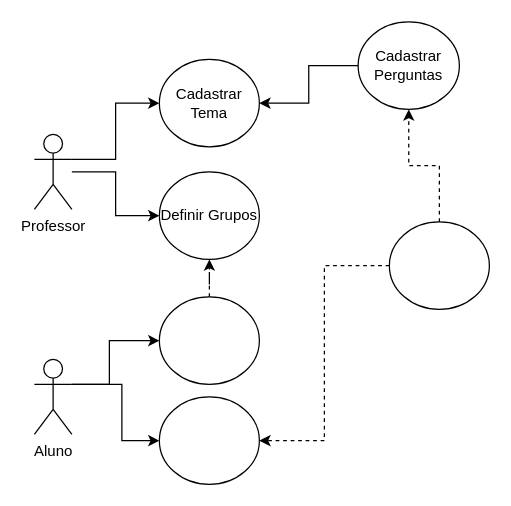
This 511x506 diagram has some shape labels left out. Each missing label, with the centre of its shape:
Cadastrar Dados Pessoais: pixel 208 340
Cadastrar Roteiro de Atividades: pixel 438 265
Entrar na Atividade: pixel 208 440
